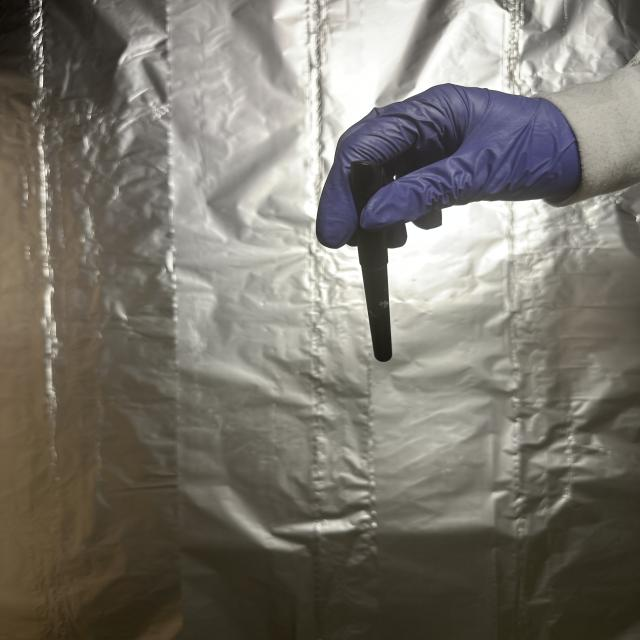gloves_contaminated: (317, 84, 581, 247)
